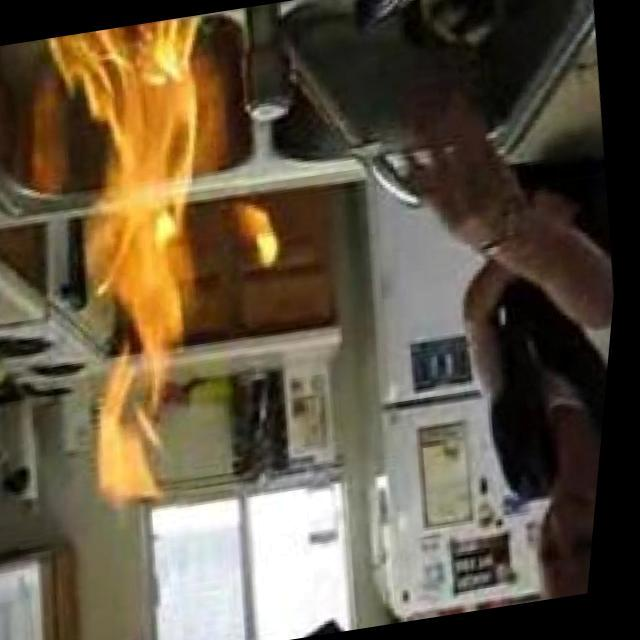fire: (31, 15, 278, 501), (236, 188, 292, 272)
